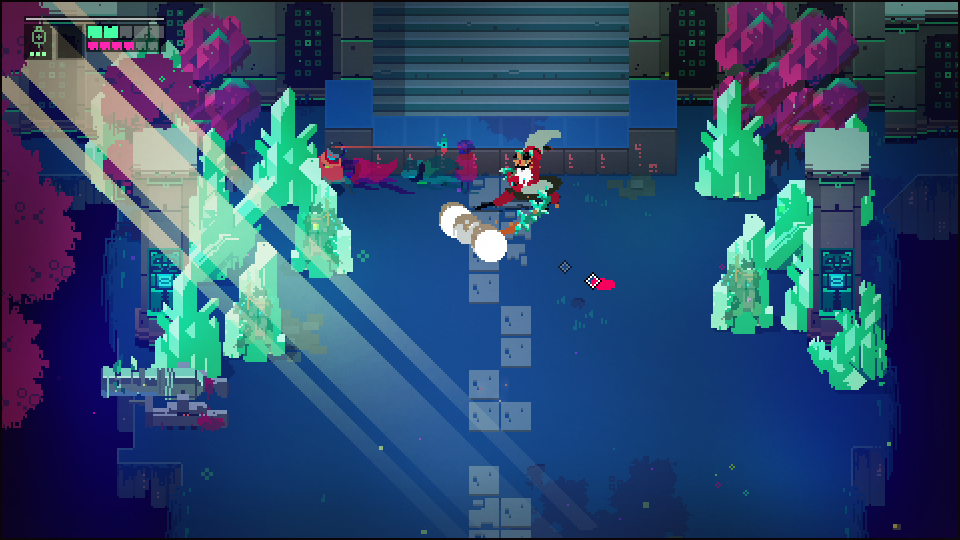hanged_man: (471, 127, 565, 235)
player: (314, 142, 345, 188)
